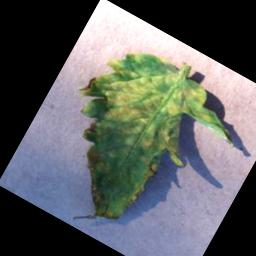Leaf_Mold: (25, 28, 253, 256)
